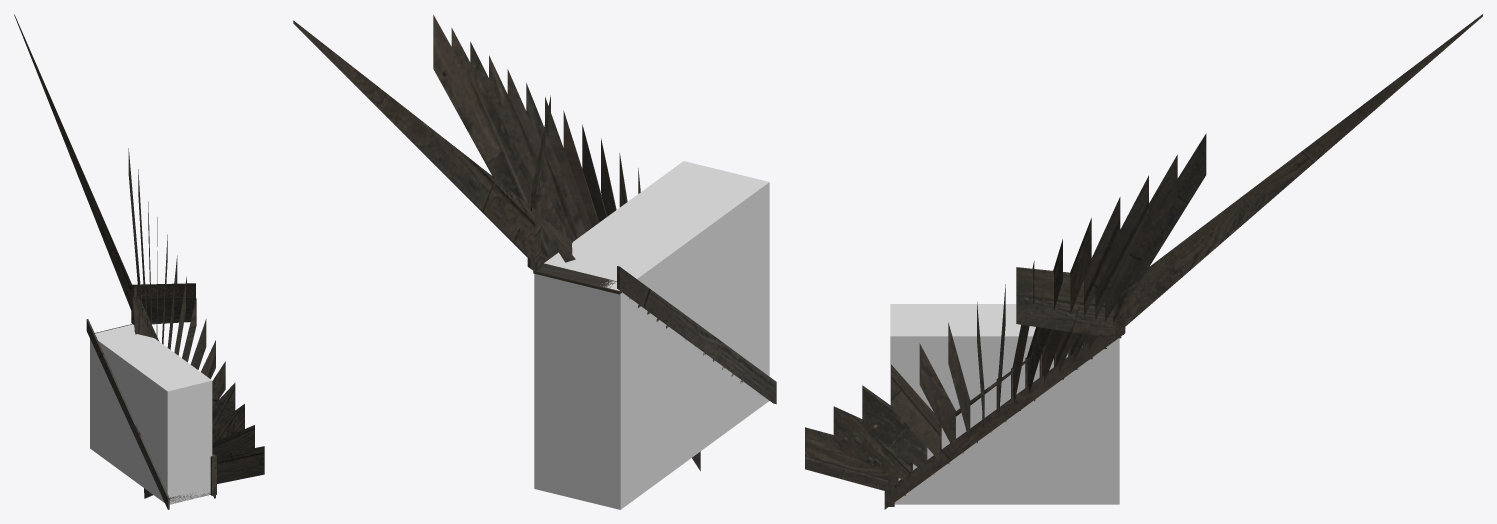
The model's file is SM_Arch_Staircase_01.glb.
3 renders of one model, left to right at view 1: azimuth 30°, elevation 25°; view 2: azimuth 150°, elevation 25°; view 3: azimuth 270°, elevation 25°, orthographic. The views are drawn at different scales.
Visible parts, largest first — view 1: COL_Arch_Staircase_01, SM_Arch_Staircase_01; view 2: COL_Arch_Staircase_01, SM_Arch_Staircase_01; view 3: SM_Arch_Staircase_01, COL_Arch_Staircase_01.
Part boxes in pixels (box(x1,y1,x2,y2)): COL_Arch_Staircase_01: box(90, 324, 212, 504); SM_Arch_Staircase_01: box(14, 14, 264, 509); COL_Arch_Staircase_01: box(534, 161, 769, 509); SM_Arch_Staircase_01: box(293, 15, 776, 470); SM_Arch_Staircase_01: box(805, 14, 1482, 509); COL_Arch_Staircase_01: box(890, 304, 1119, 504).
Size of the model in its own units: 2.27 by 10.45 by 12.41.
Materials: 1 (1 with a texture image).
